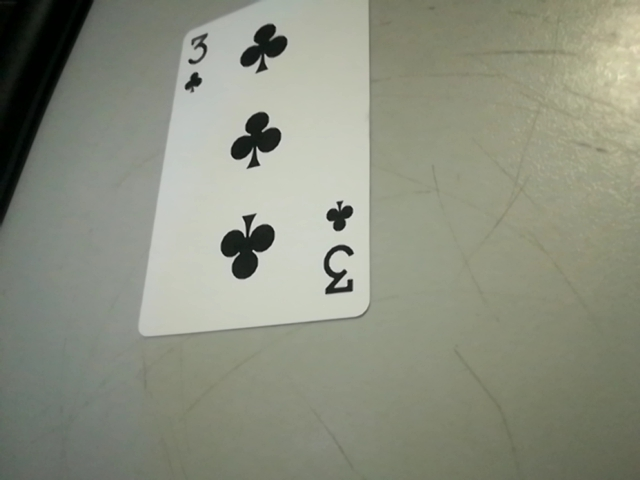mh 3: (312, 193, 371, 310)
